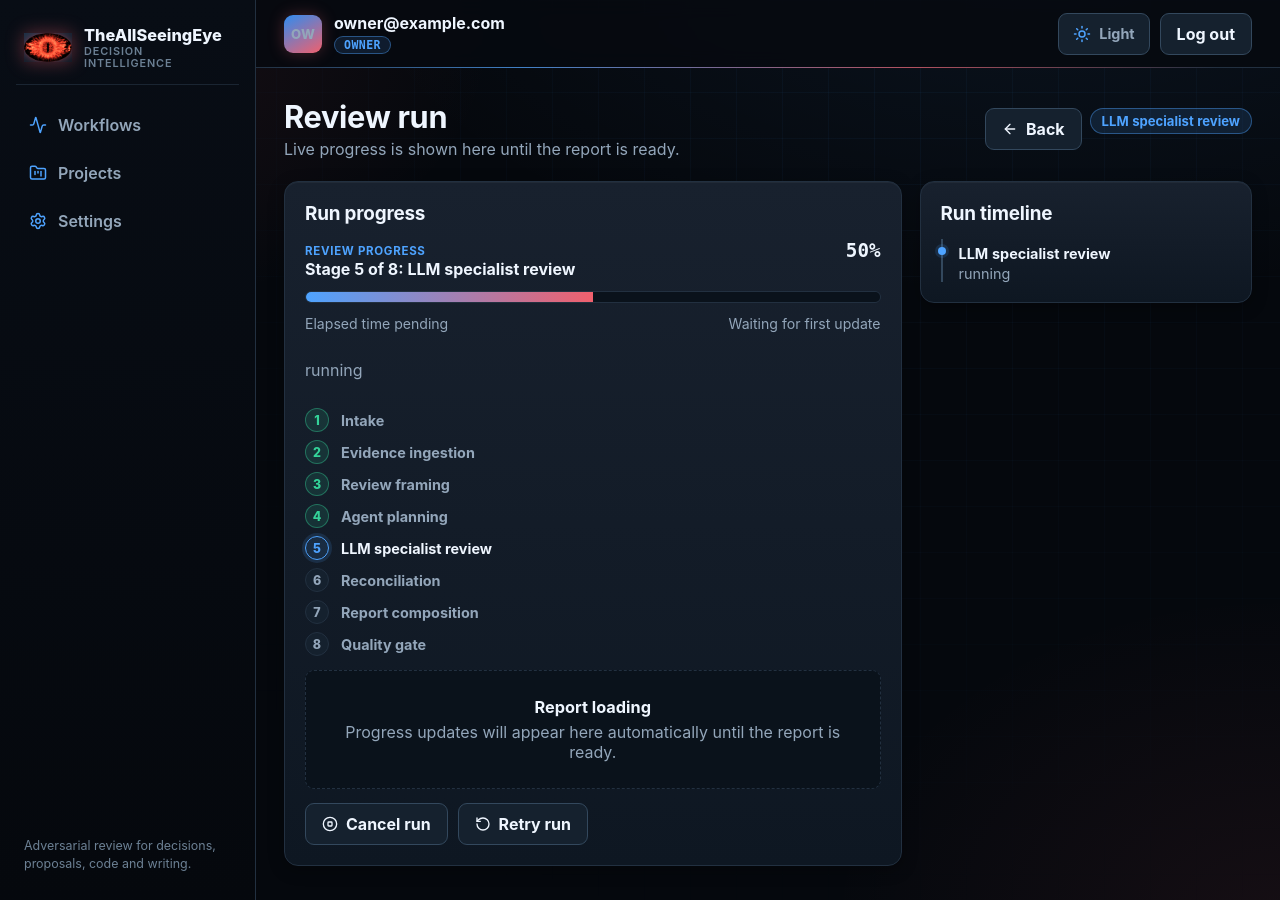
Scenario: RedTeamAgent app flows › cancels a running workflow from the report timeline
This screenshot has width=1280, height=900.
Expected: the 1st text "LLM specialist review" is shown, [1090, 108, 1252, 134]
What coordinates should you click on to do the following:
click the button "Cancel run"
I would click on:
 (376, 824)
Its box is [305, 803, 448, 845].
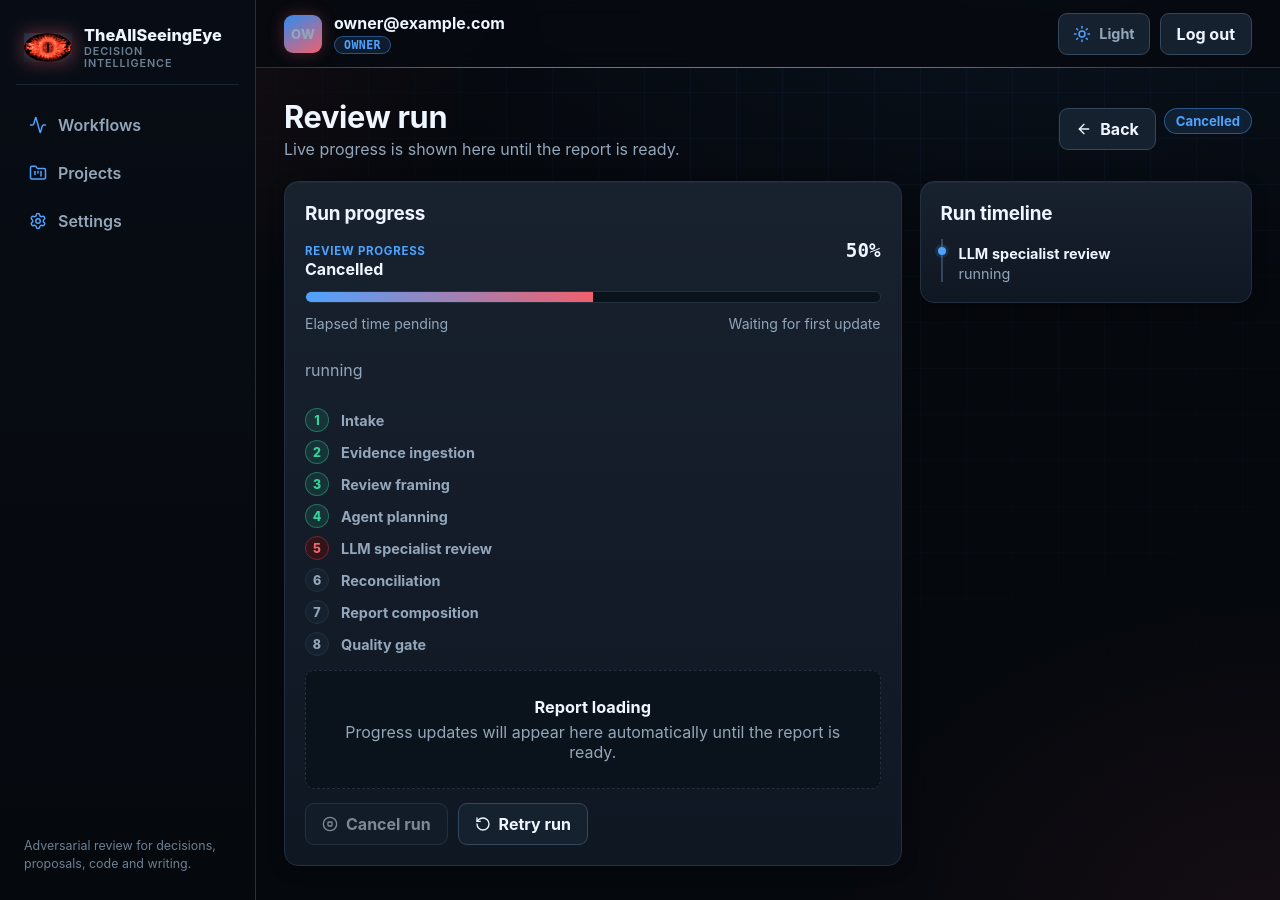
Result: the 1st text "Cancelled" is shown at [1164, 108, 1252, 134]
